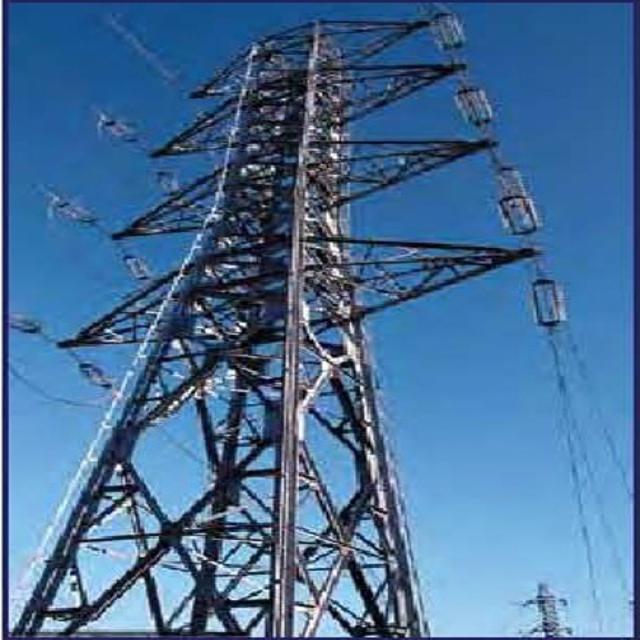non-critical vegetation: (23, 18, 574, 632)
